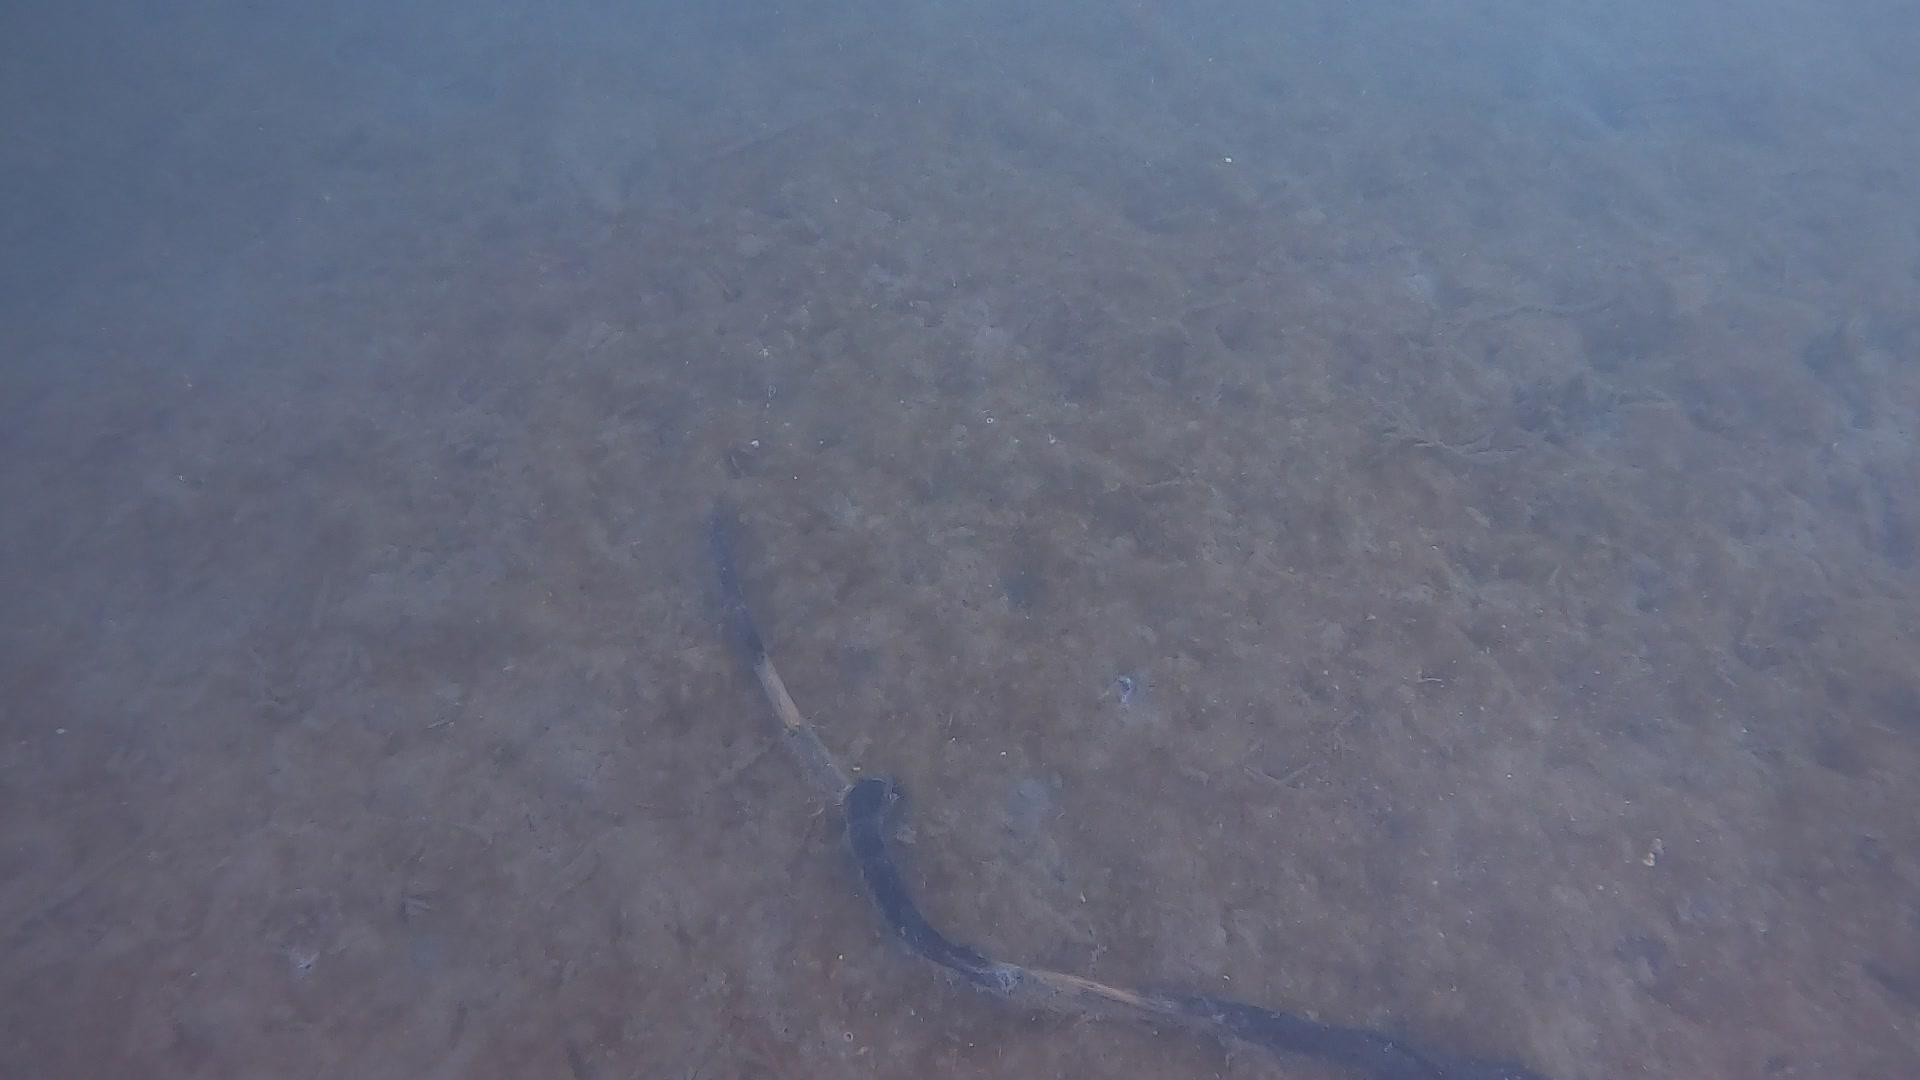wood: (709, 496, 1534, 1080)
